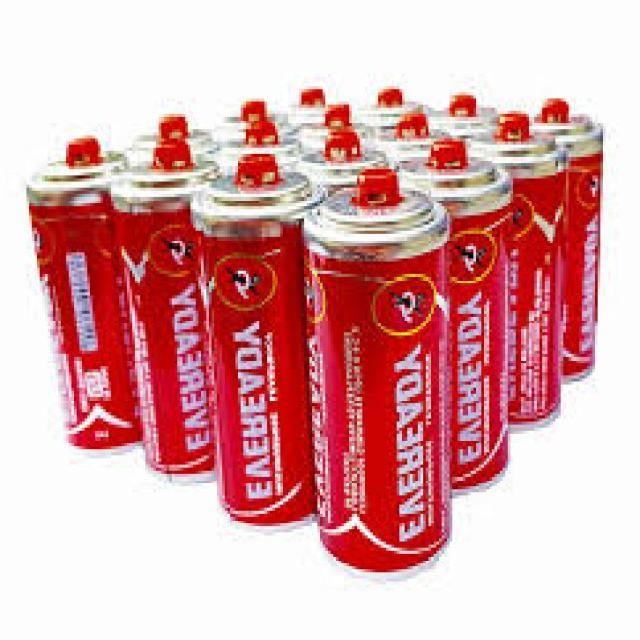battery: (312, 162, 449, 576), (186, 153, 308, 546), (400, 138, 510, 498), (31, 132, 145, 473), (115, 132, 222, 480), (472, 112, 570, 430), (526, 94, 606, 382)
